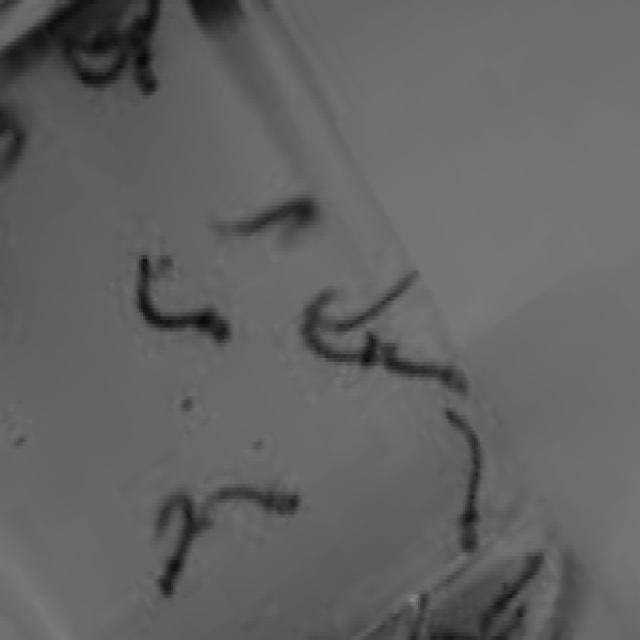larvas: (138, 254, 231, 344), (329, 260, 422, 345), (71, 31, 158, 98), (306, 288, 376, 368), (447, 406, 483, 552), (388, 338, 467, 393), (223, 193, 314, 237), (159, 494, 192, 598), (198, 481, 299, 514)
